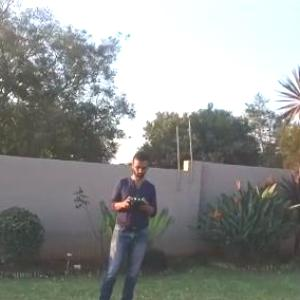follow: (84, 147, 160, 299)
